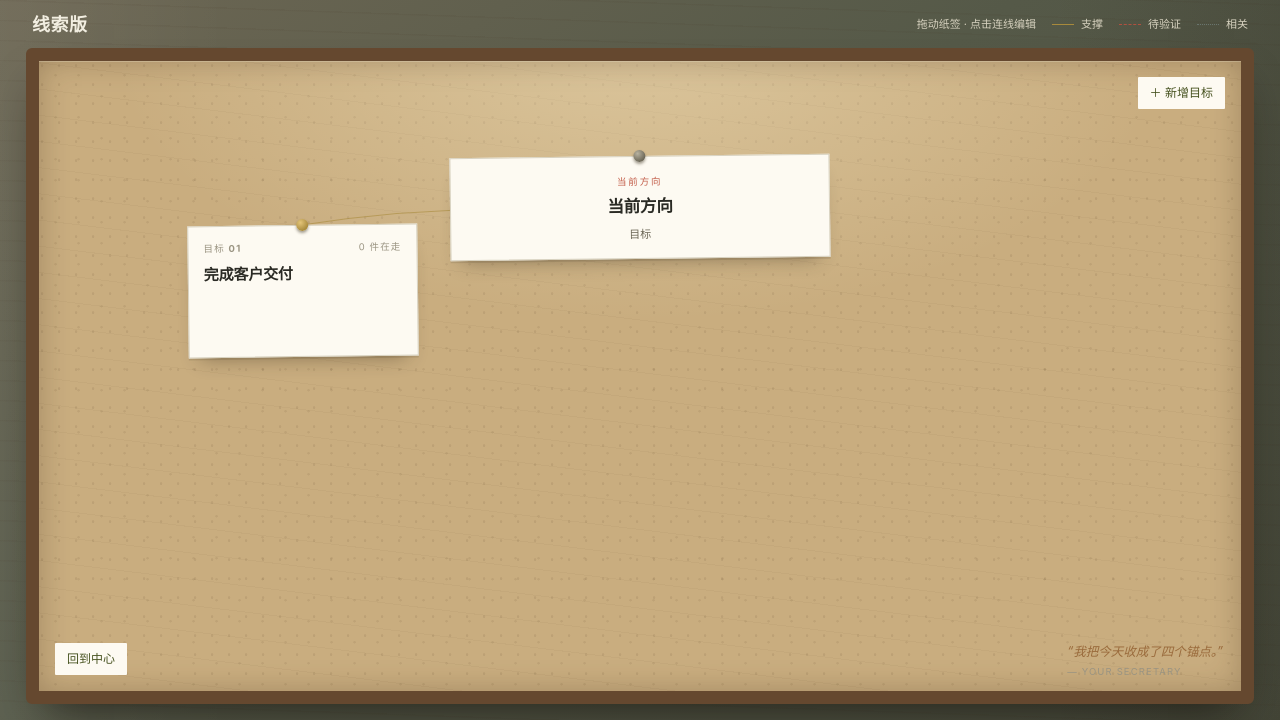
clue paper settings › deleting enters the existing confirmation and retries a failed real save
This screenshot has width=1280, height=720.
Right-click the element with class "clue-thread-paper" at (303, 291), box [188, 223, 419, 358]
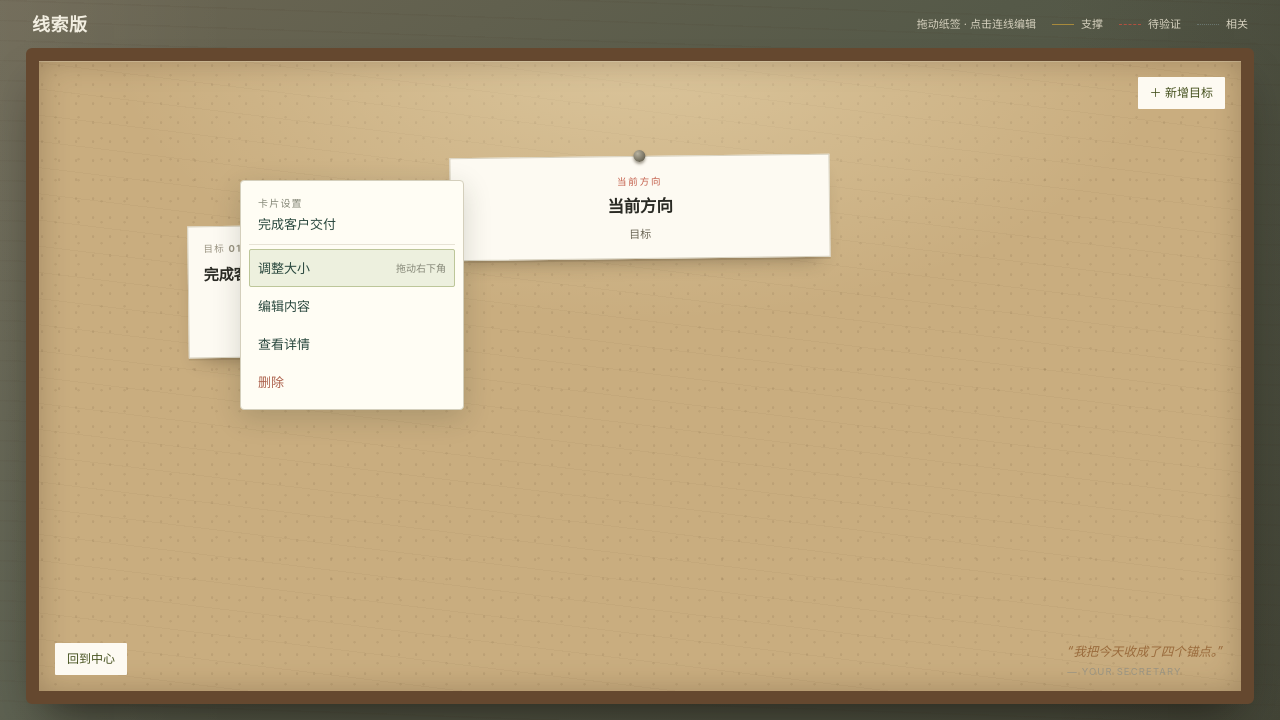
Click the menu item "删除" at (352, 382), box [249, 363, 455, 401]
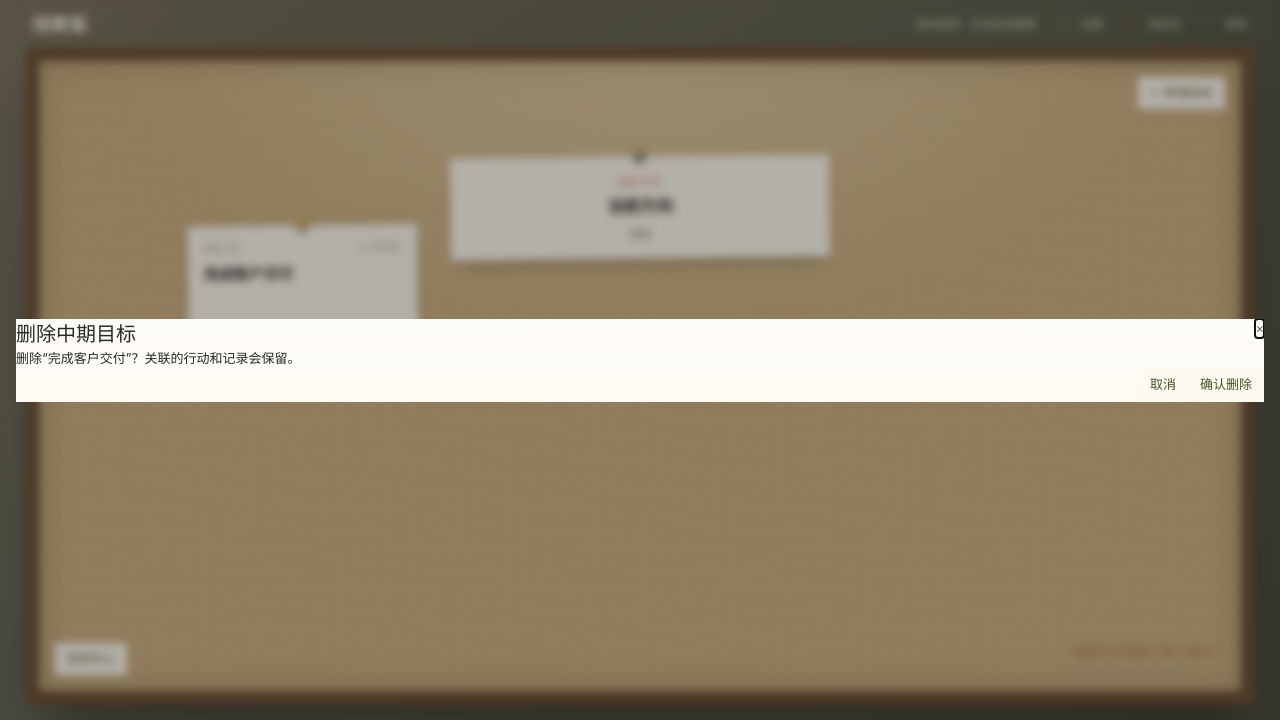
Expected: the dialog "删除中期目标" is shown, [16, 318, 1264, 402]
Expected: the text "删除“完成客户交付”？关联的行动和记录会保留。" is shown, [16, 350, 300, 366]
Click the button "确认删除" at (1226, 385), box [1188, 368, 1264, 402]
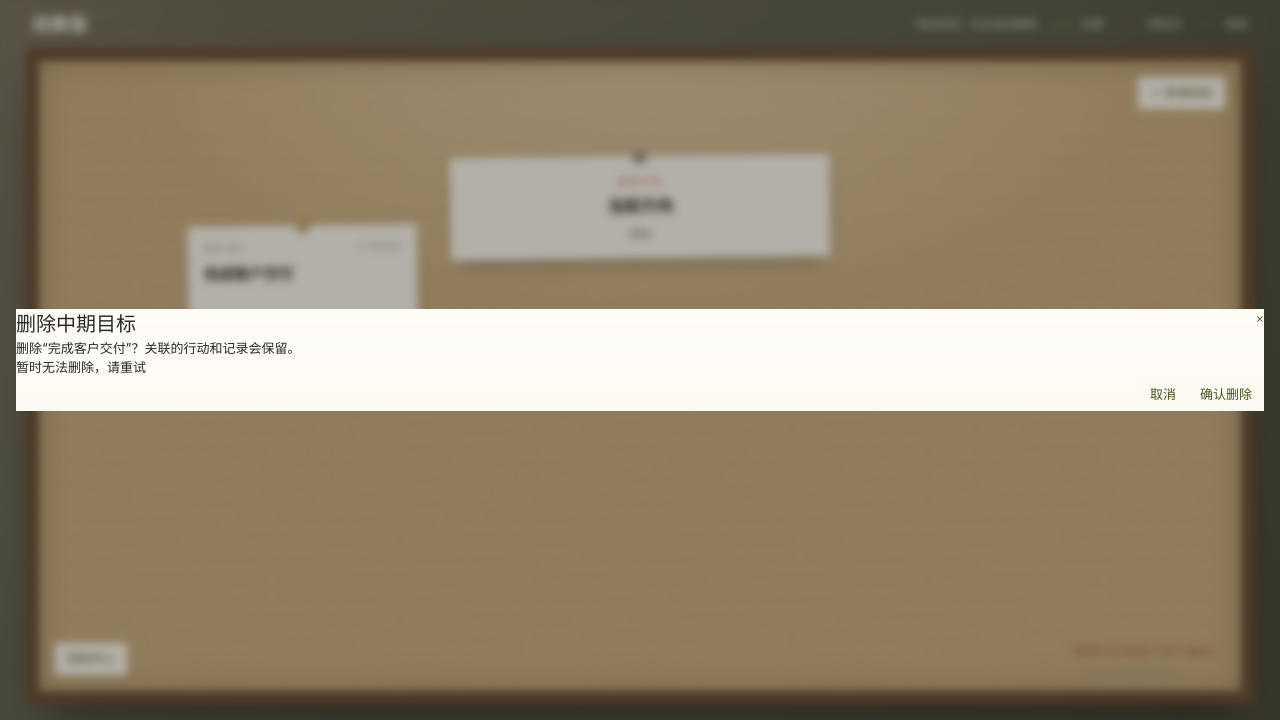
Expected: the message shows "暂时无法删除", [16, 359, 146, 375]
Click the button "确认删除" at (1226, 395), box [1188, 378, 1264, 411]
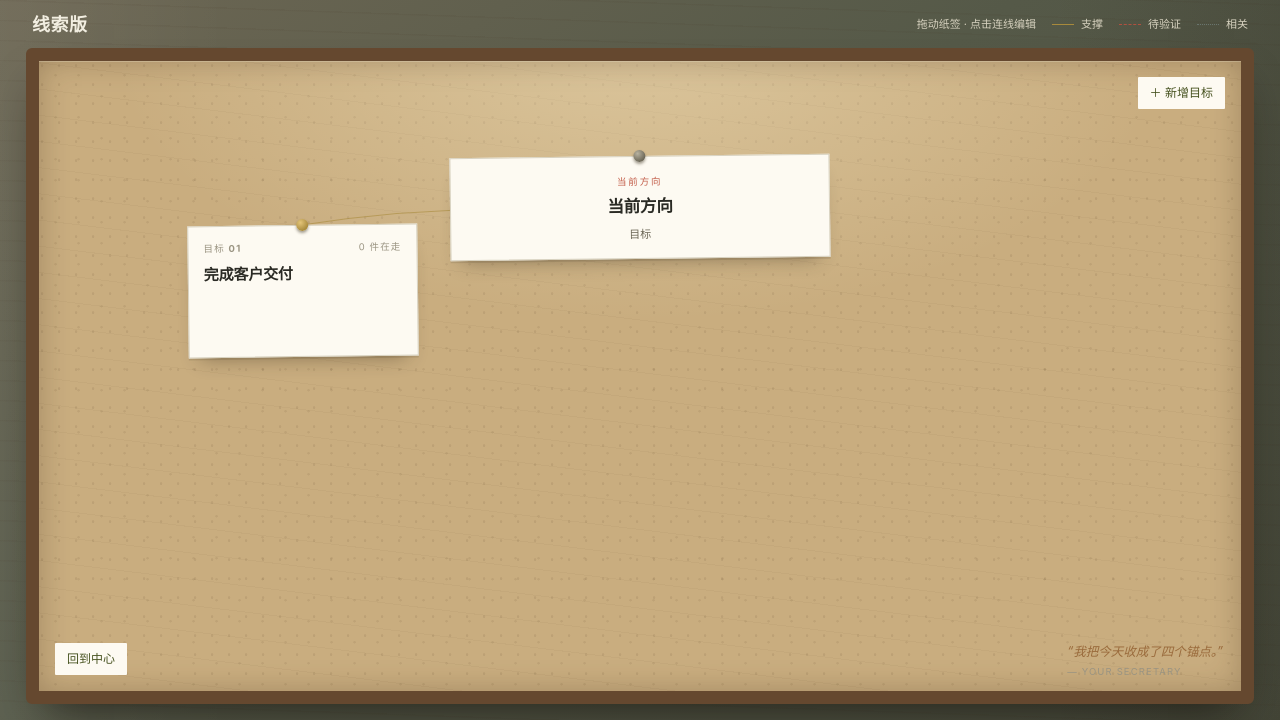
Expected: the dialog is gone
